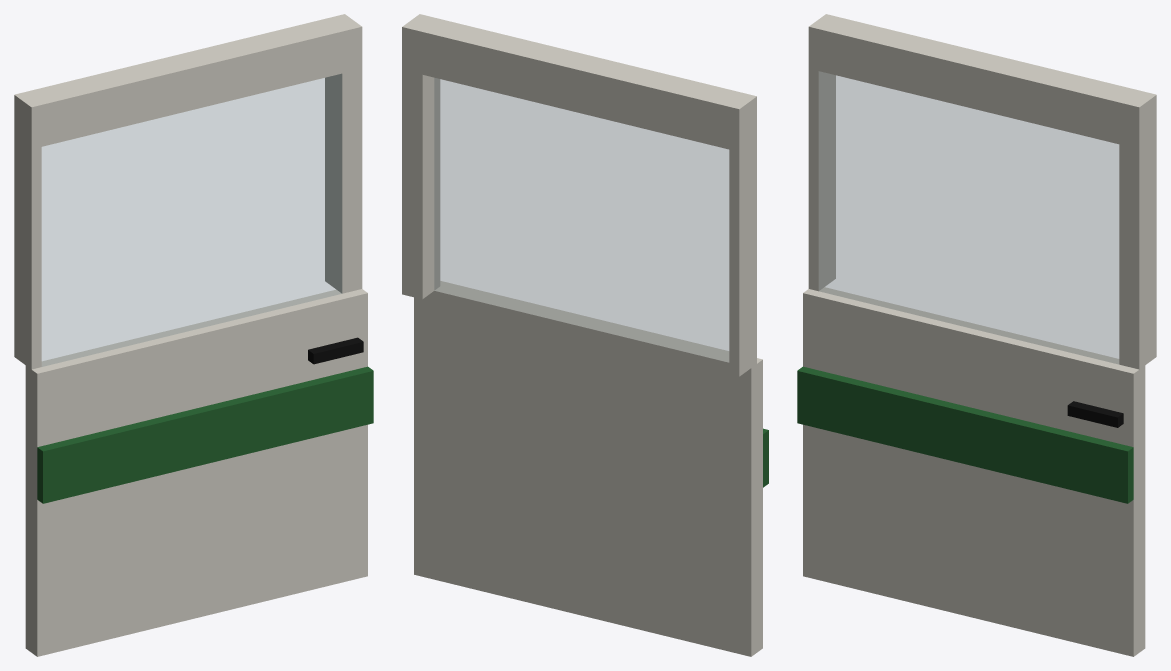
Rendered from camper_van_side_door.glb.
The picture shows the model from 3 angles, left to right: view 1: azimuth 30°, elevation 25°; view 2: azimuth 150°, elevation 25°; view 3: azimuth 330°, elevation 25°; orthographic projection. The views are drawn at different scales.
Visible parts, largest first — view 1: body:compound; view 2: body:compound; view 3: body:compound.
Boxes of the visible parts, box(x1,y1,x2,y2) form: body:compound: box(14, 14, 373, 656); body:compound: box(402, 14, 768, 656); body:compound: box(797, 14, 1156, 656).
Bounding box in the file's own units: 1.03 × 1.62 × 0.1562.
